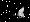person: (14, 7, 24, 19)
